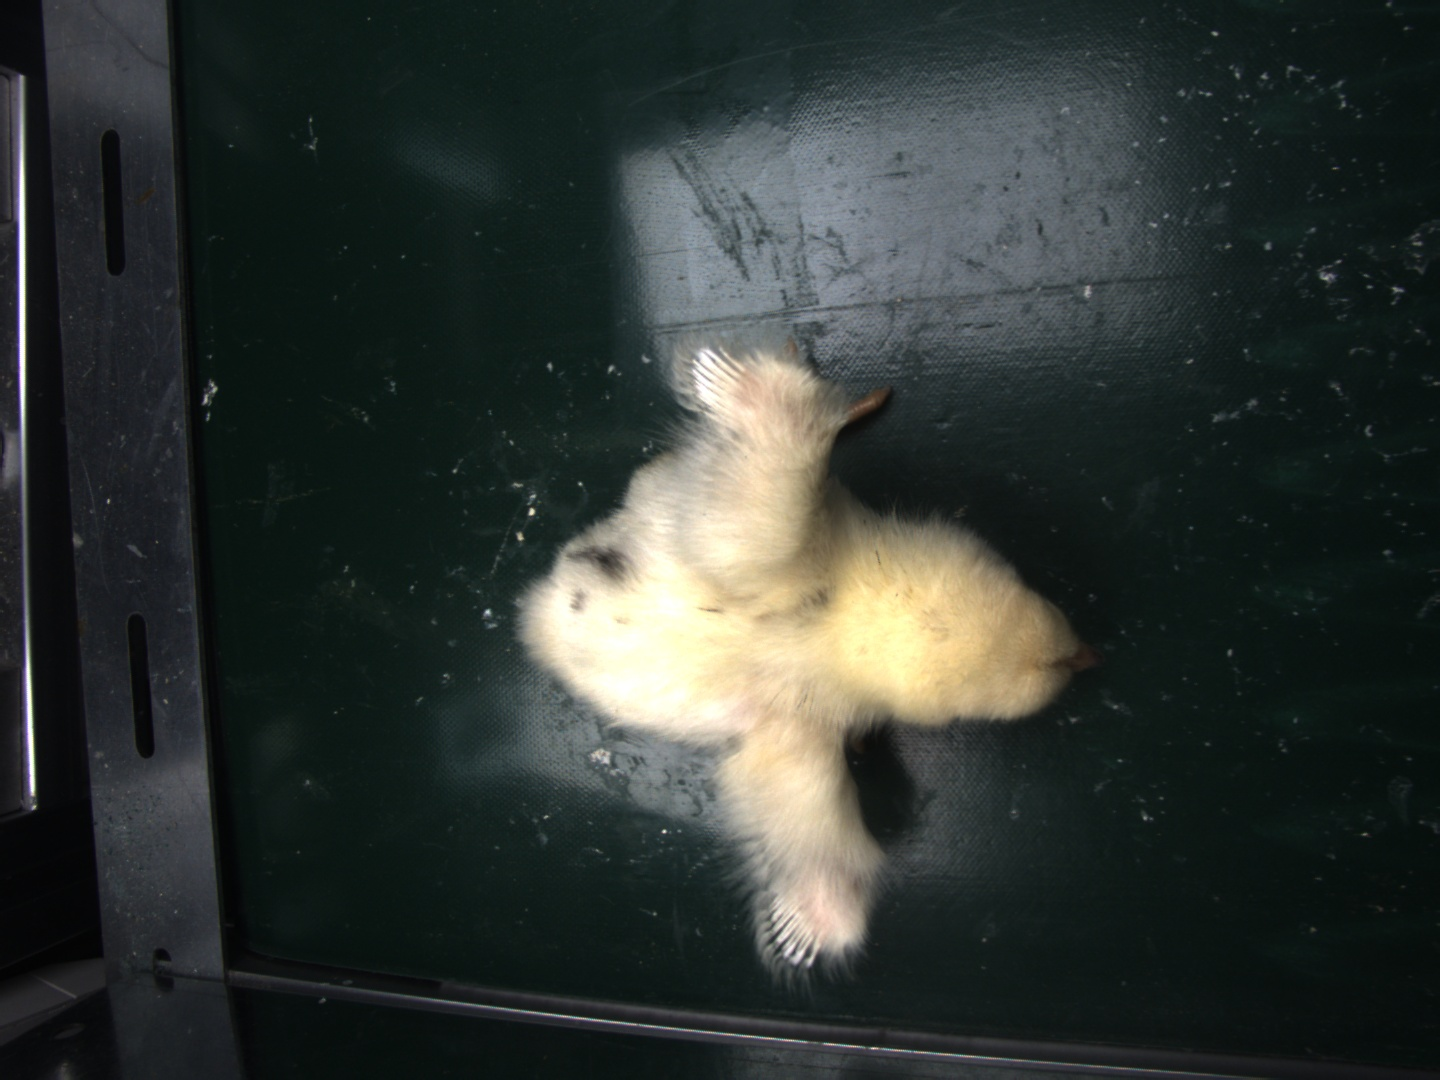male: (766, 898, 824, 963)
